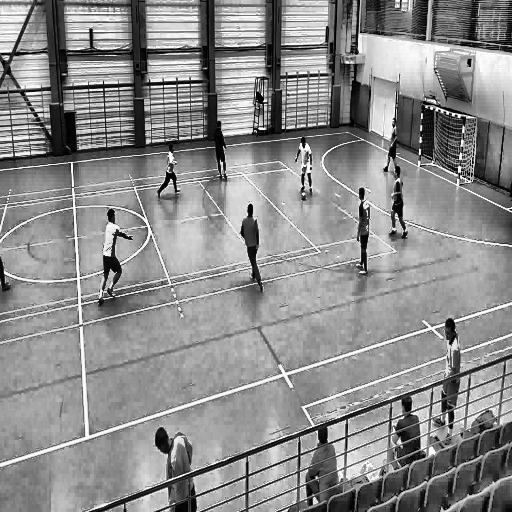ball: (300, 188, 308, 204)
player: (151, 422, 196, 504), (432, 309, 460, 440), (97, 209, 133, 308), (384, 390, 422, 466), (303, 420, 340, 496), (239, 201, 265, 296), (354, 186, 372, 279), (388, 165, 410, 241), (156, 142, 184, 200), (294, 136, 314, 199), (213, 119, 230, 185), (382, 116, 400, 173)
